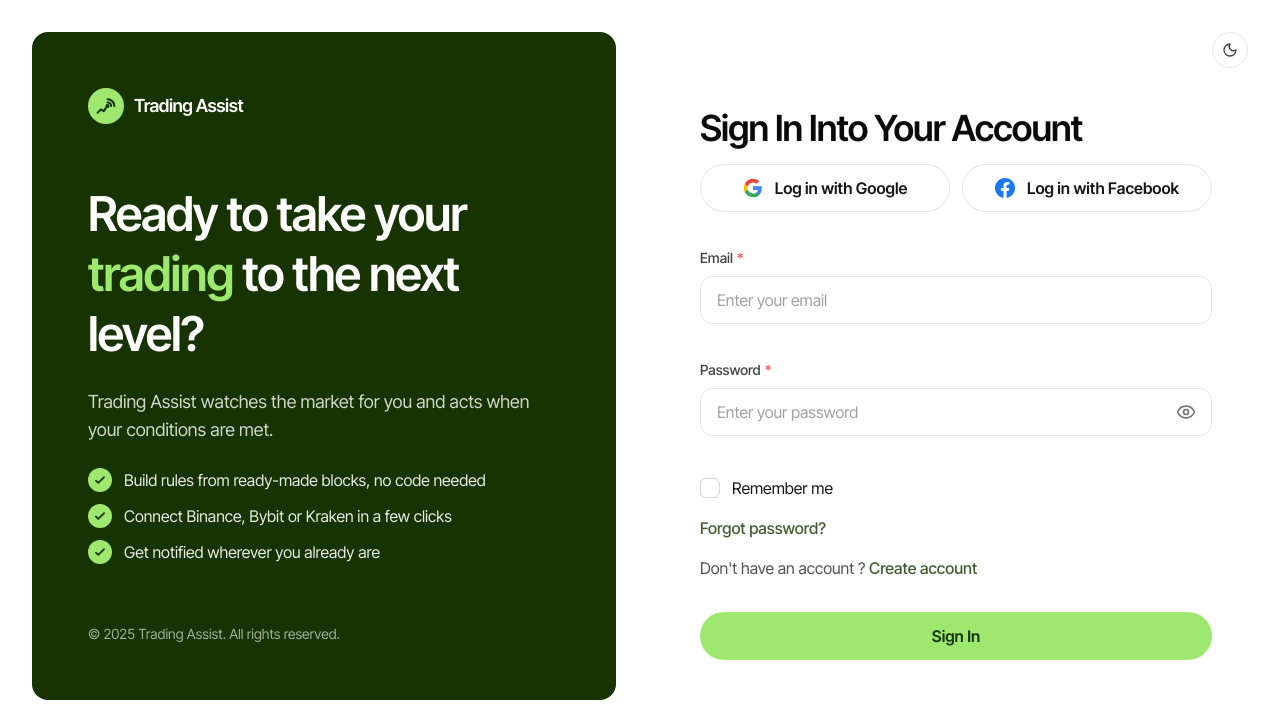
Test: SignIn › Validation (client-side) › removes email error when field is corrected (realtime validation)
Type "invalid-email" into the field labelled "Email*".
click(956, 300); type("invalid-email")  # box [700,276,1212,324]
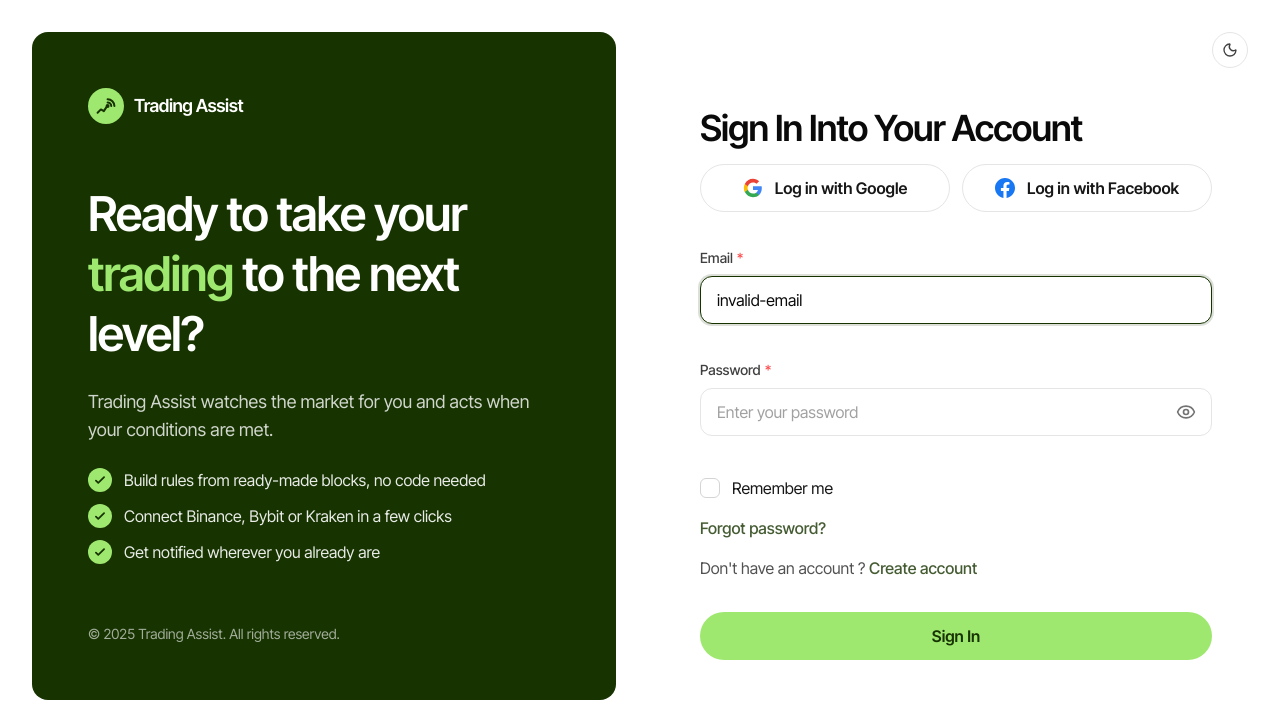
Click the button "Sign In".
click(956, 636)  # box [700,612,1212,660]
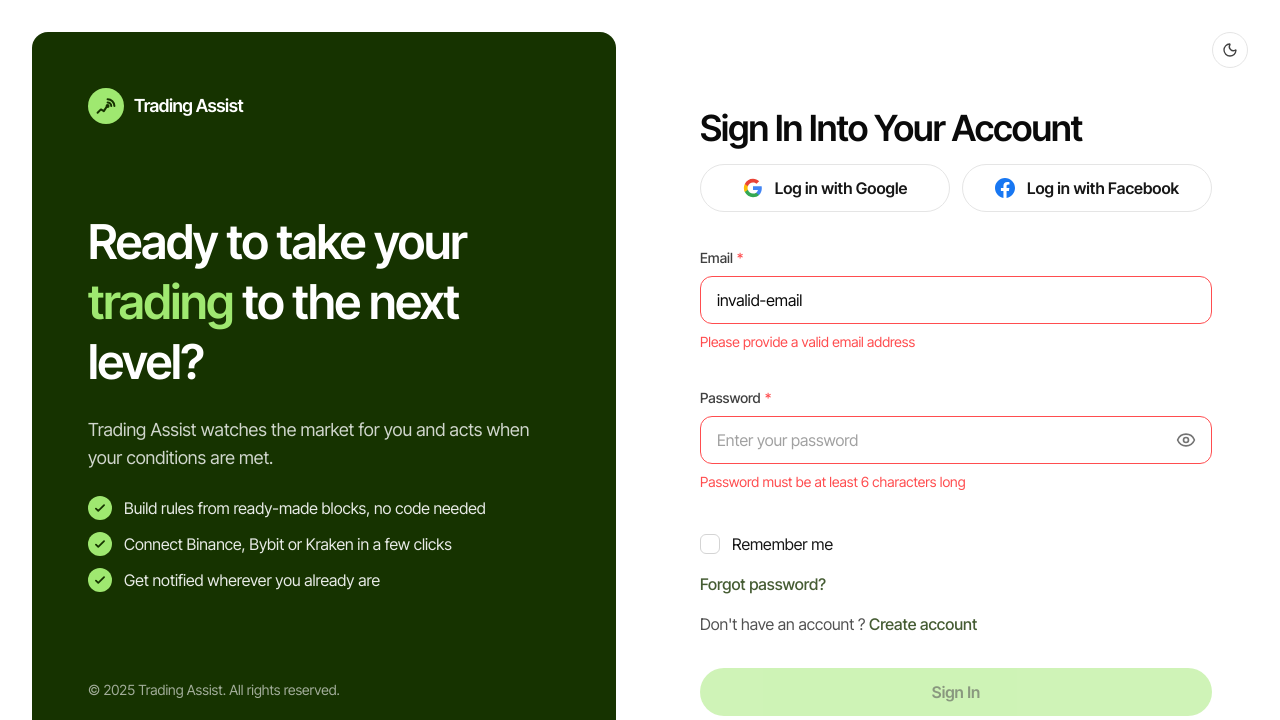
expect the text "Please provide a valid email address" is shown: met, box [700,333,915,350]
Replace the text in the field labelled "Email*" with "test@example.com" at (956, 300), box [700,276,1212,324]
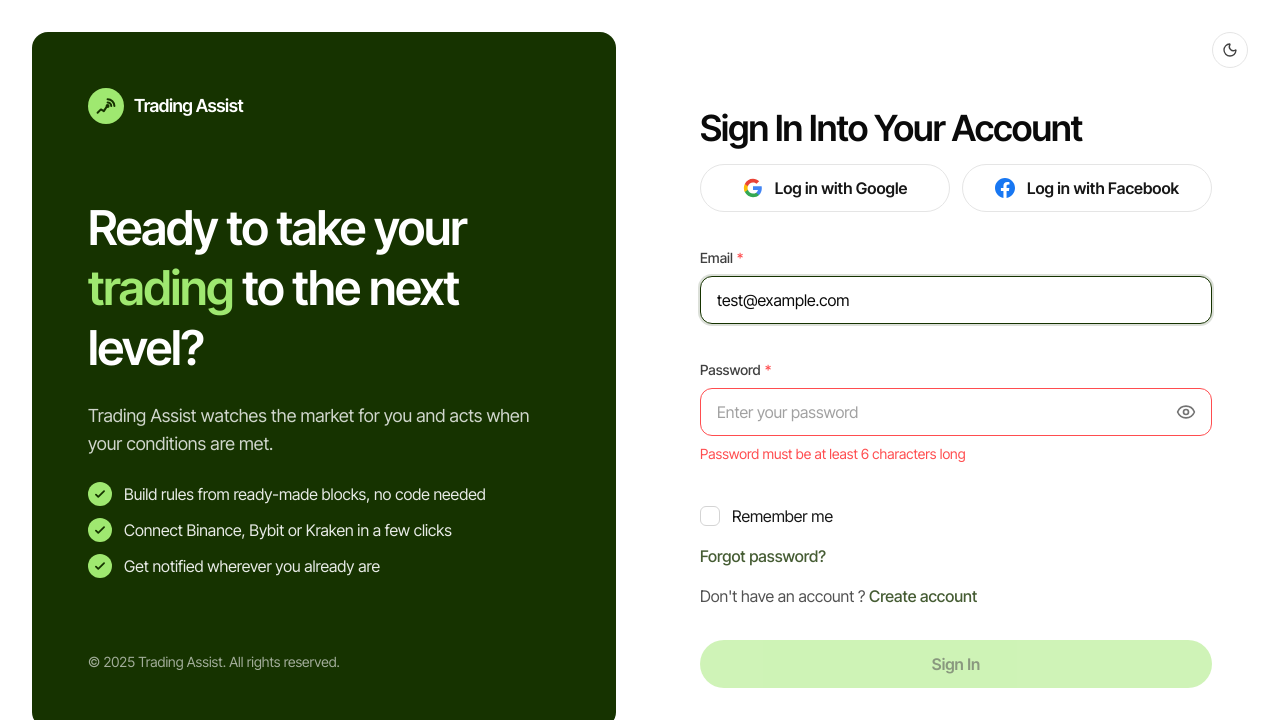
expect the text "Please provide a valid email address" is gone: met
